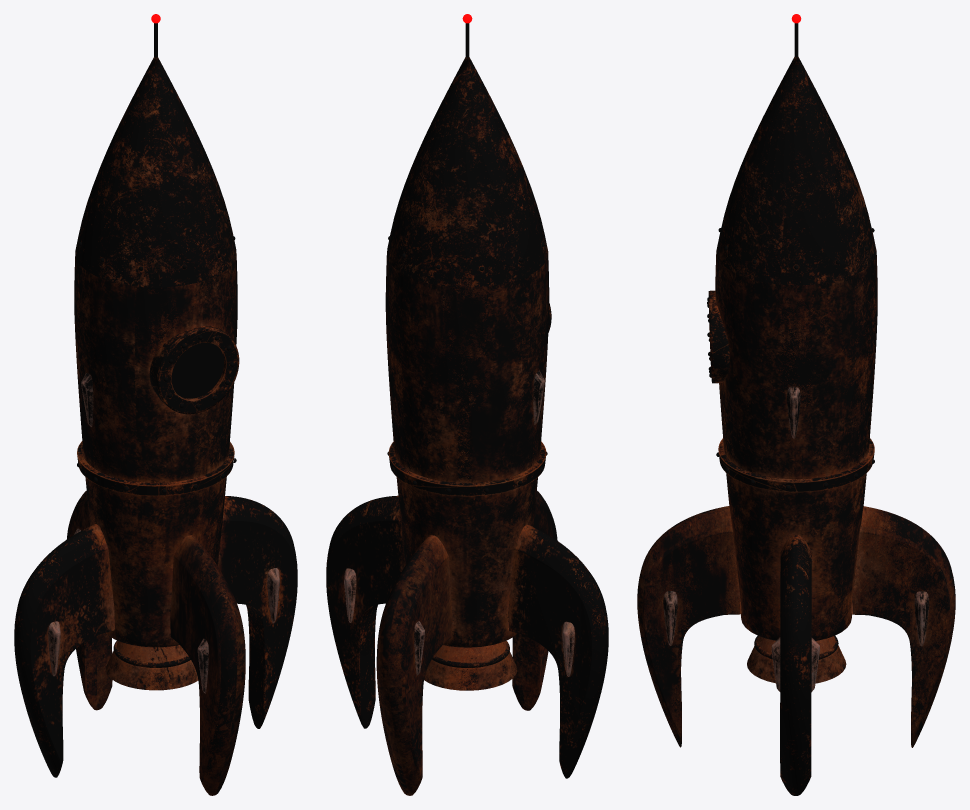
File: Rocket.glb
3 views of the same model, side by side, from view 1: azimuth 30°, elevation 25°; view 2: azimuth 150°, elevation 25°; view 3: azimuth 270°, elevation 25° (orthographic).
Parts seen in each view (by area): view 1: Object_10, Object_8, Object_4, Object_9, Object_7, Object_13, Object_6, Object_16, Object_2, Object_3; view 2: Object_10, Object_8, Object_4, Object_9, Object_13, Object_6, Object_2, Object_3; view 3: Object_10, Object_9, Object_4, Object_8, Object_2, Object_6, Object_13, Object_7.
Boxes of the visible parts, x1,y1,x2,y2 form: Object_10: [74, 253, 237, 647]; Object_8: [14, 496, 297, 777]; Object_4: [75, 57, 236, 287]; Object_9: [66, 491, 245, 795]; Object_7: [149, 326, 239, 414]; Object_13: [106, 641, 198, 690]; Object_6: [77, 441, 234, 495]; Object_16: [171, 342, 223, 398]; Object_2: [48, 373, 279, 693]; Object_3: [113, 640, 190, 667]; Object_10: [385, 252, 549, 647]; Object_8: [326, 495, 608, 778]; Object_4: [387, 57, 548, 287]; Object_9: [376, 491, 557, 795]; Object_13: [424, 641, 517, 690]; Object_6: [388, 441, 546, 496]; Object_2: [344, 370, 574, 676]; Object_3: [432, 640, 509, 667]; Object_10: [715, 252, 877, 640]; Object_9: [637, 506, 955, 747]; Object_4: [716, 56, 876, 285]; Object_8: [780, 535, 811, 795]; Object_2: [663, 386, 928, 691]; Object_6: [718, 438, 874, 492]; Object_13: [747, 636, 846, 683]; Object_7: [708, 290, 729, 383].
Bounding box in the file's own units: 7.57 × 19.23 × 7.57.
Materials: 15 (15 with a texture image).
